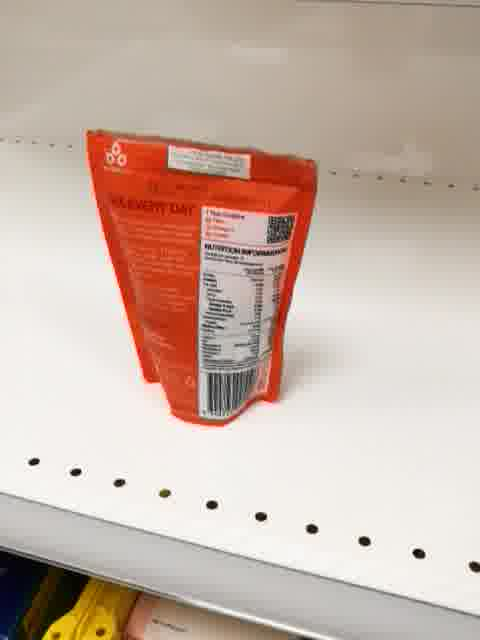whitechia: (84, 127, 323, 429)
